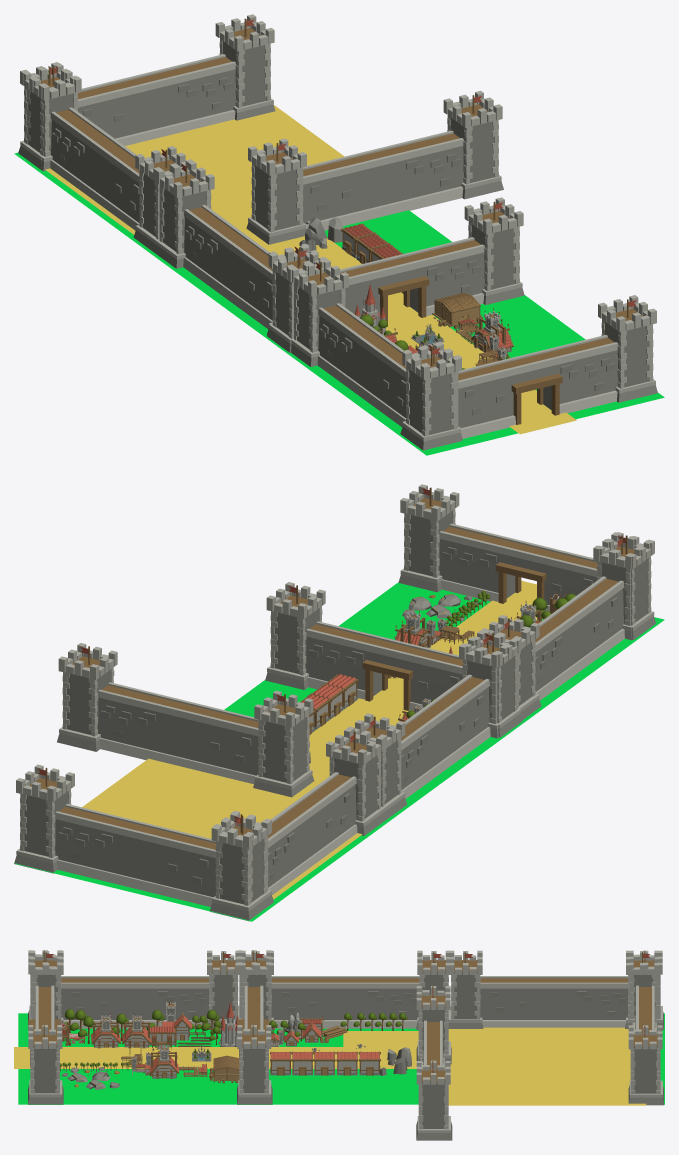
Rendered from Stage1.fbx.
3 views of the same model, one above another, from view 1: azimuth 30°, elevation 25°; view 2: azimuth 150°, elevation 25°; view 3: azimuth 270°, elevation 25° (orthographic). The views are drawn at different scales.
Visible parts, largest first — view 1: WallTowers_SecondAge.002, WallTowers_Door_SecondAge.001, WallTowers_SecondAge.005, WallTowers_Door_SecondAge, WallTowers_SecondAge.003, WallTowers_SecondAge.001, WallTowers_SecondAge, 平面, 平面.003, 平面.001, Storage_FirstAge_Leve3, TowerHouse_SecondAge (+1 smaller); view 2: WallTowers_SecondAge.002, WallTowers_SecondAge.005, WallTowers_Door_SecondAge.001, WallTowers_Door_SecondAge, WallTowers_SecondAge.001, WallTowers_SecondAge.003, WallTowers_SecondAge, 平面.003, 平面, 平面.001, TowerHouse_SecondAge, Resource_Gold_3; view 3: 平面.003, 平面, WallTowers_SecondAge.003, WallTowers_SecondAge, WallTowers_SecondAge.001, WallTowers_SecondAge.002, WallTowers_SecondAge.005, WallTowers_Door_SecondAge, WallTowers_Door_SecondAge.001, 平面.001, 平面.002, TowerHouse_SecondAge (+15 smaller).
Part boxes in pixels (<box>): WallTowers_SecondAge.002: <box>246,90,503,244</box>; WallTowers_Door_SecondAge.001: <box>400,295,657,450</box>; WallTowers_SecondAge.005: <box>18,14,275,169</box>; WallTowers_Door_SecondAge: <box>267,197,524,352</box>; WallTowers_SecondAge.003: <box>23,63,193,251</box>; WallTowers_SecondAge.001: <box>154,161,326,338</box>; WallTowers_SecondAge: <box>291,259,462,440</box>; 平面: <box>14,152,664,455</box>; 平面.003: <box>45,105,344,239</box>; 平面.001: <box>278,236,576,434</box>; Storage_FirstAge_Leve3: <box>432,293,482,328</box>; TowerHouse_SecondAge: <box>471,308,513,352</box>; WallTowers_SecondAge.002: <box>57,643,314,797</box>; WallTowers_SecondAge.005: <box>14,764,271,921</box>; WallTowers_Door_SecondAge.001: <box>398,484,655,639</box>; WallTowers_Door_SecondAge: <box>265,582,522,737</box>; WallTowers_SecondAge.001: <box>346,630,516,820</box>; WallTowers_SecondAge.003: <box>213,729,386,905</box>; WallTowers_SecondAge: <box>481,532,651,719</box>; 平面.003: <box>82,758,362,899</box>; 平面: <box>14,582,664,921</box>; 平面.001: <box>309,580,542,772</box>; TowerHouse_SecondAge: <box>394,609,431,647</box>; Resource_Gold_3: <box>402,594,478,621</box>; 平面.003: <box>448,1027,646,1105</box>; 平面: <box>18,1013,664,1104</box>; WallTowers_SecondAge.003: <box>449,950,659,1028</box>; WallTowers_SecondAge: <box>30,950,240,1029</box>; WallTowers_SecondAge.001: <box>240,950,451,1029</box>; WallTowers_SecondAge.002: <box>416,986,452,1140</box>; WallTowers_SecondAge.005: <box>628,950,663,1105</box>; WallTowers_Door_SecondAge: <box>237,950,272,1104</box>; WallTowers_Door_SecondAge.001: <box>28,950,63,1104</box>; 平面.001: <box>14,1047,416,1068</box>; 平面.002: <box>343,1031,418,1052</box>; TowerHouse_SecondAge: <box>149,1043,178,1078</box>.
Size of the model in its own units: 278 by 74.81 by 604.
